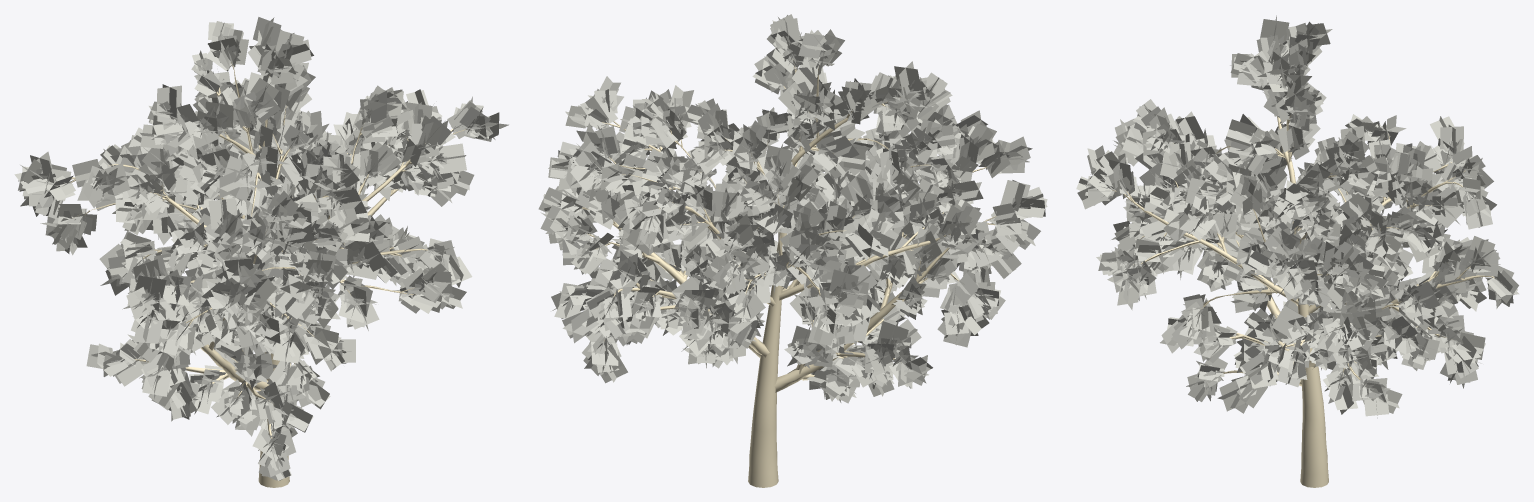
The model's file is ez-oak-mid.glb.
3 views of the same model, side by side, from view 1: azimuth 30°, elevation 25°; view 2: azimuth 150°, elevation 25°; view 3: azimuth 270°, elevation 25° (orthographic). The views are drawn at different scales.
Visible parts, largest first — view 1: Tree; view 2: Tree; view 3: Tree.
Boxes of the visible parts, x1=… form: Tree: x1=14, y1=17, x2=508, y2=487; Tree: x1=538, y1=14, x2=1047, y2=487; Tree: x1=1076, y1=15, x2=1519, y2=487.
Size of the model in its own units: 94.25 by 100 by 92.15.
